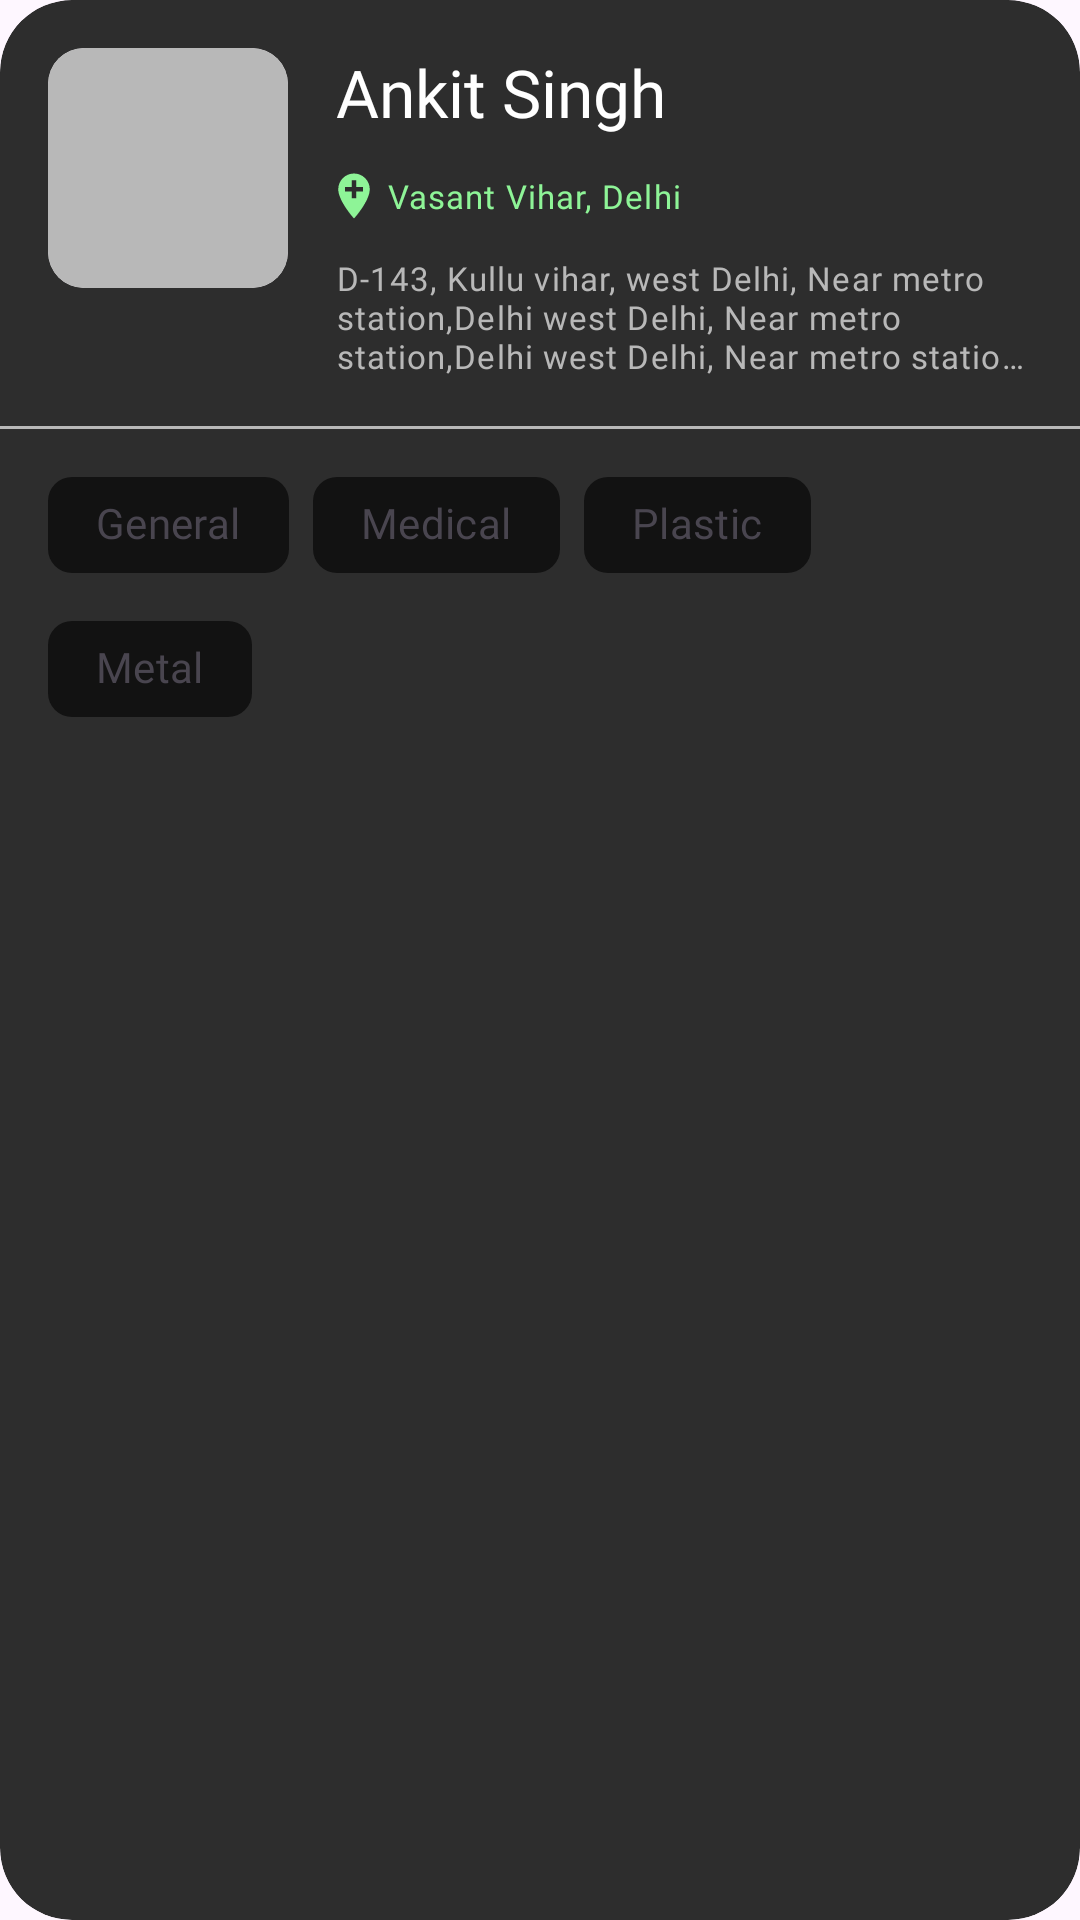

Icon bounding boxes for this 1080x1920 phone screenshot, format box(x1, y1, x2, y2):
add location: box(338, 173, 370, 218)
